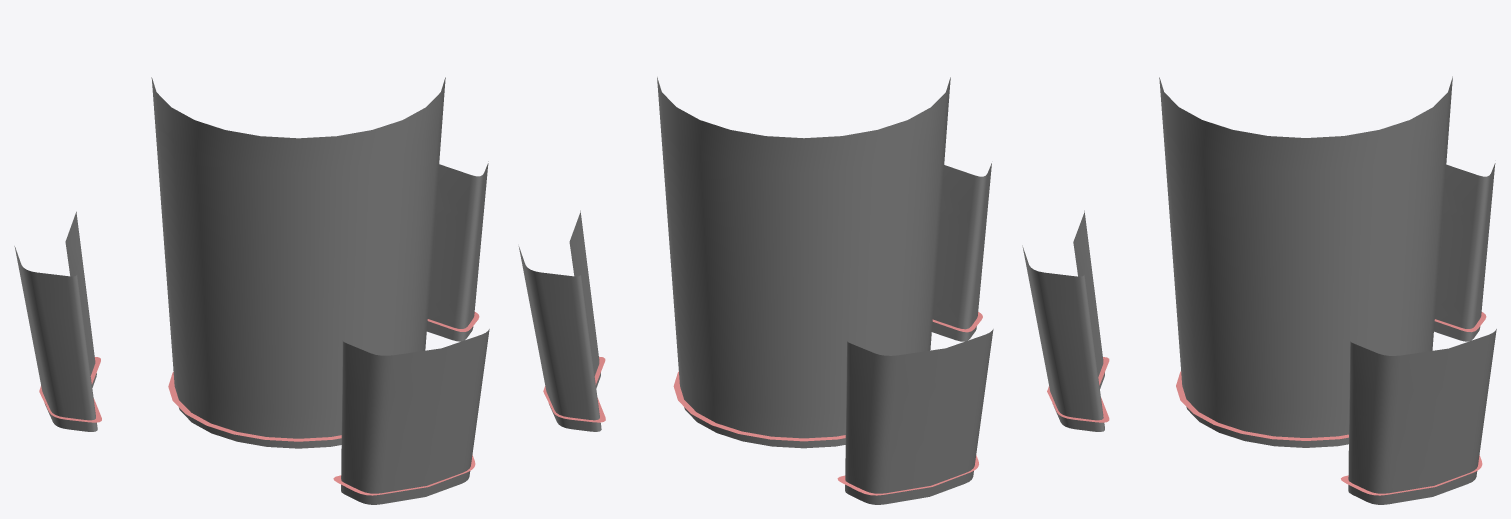
The model's file is BoostPad_Small_02_SM.gltf.
3 renders of one model, left to right at view 1: azimuth 30°, elevation 25°; view 2: azimuth 150°, elevation 25°; view 3: azimuth 270°, elevation 25°, orthographic.
Visible parts, largest first — view 1: BoostPad_Small_02_SM; view 2: BoostPad_Small_02_SM; view 3: BoostPad_Small_02_SM.
Boxes of the visible parts, box(x1,y1,x2,y2) form: BoostPad_Small_02_SM: box(14, 77, 489, 504); BoostPad_Small_02_SM: box(518, 77, 993, 504); BoostPad_Small_02_SM: box(1022, 76, 1496, 504).
Size of the model in its own units: 0.9185 by 0.6241 by 0.82.
